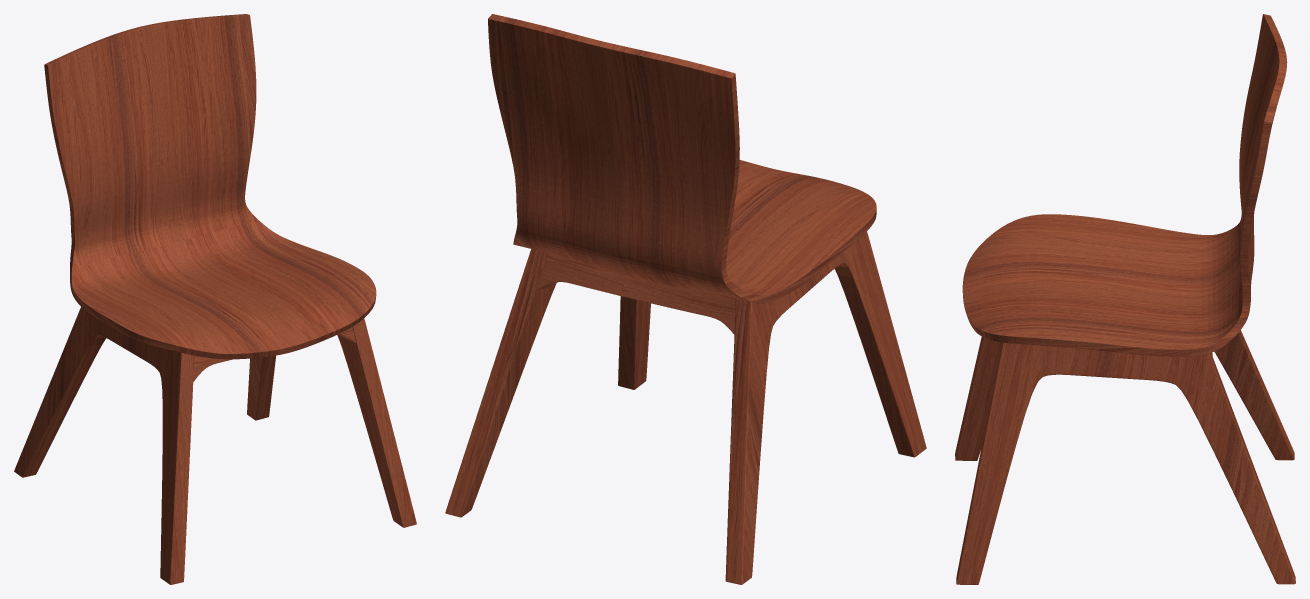
File: Chair.obj
3 renders of one model, left to right at view 1: azimuth 30°, elevation 25°; view 2: azimuth 150°, elevation 25°; view 3: azimuth 270°, elevation 25°, orthographic. The views are drawn at different scales.
Visible parts, largest first — view 1: Line061, Line065, Line062, Line064; view 2: Line061, Line065, Line062, Line063; view 3: Line061, Line062, Line065.
Part boxes in pixels (x1,y1,x2,y2): Line061: [44, 14, 376, 359]; Line065: [14, 307, 194, 584]; Line062: [247, 318, 416, 527]; Line064: [193, 327, 356, 381]; Line061: [488, 14, 876, 303]; Line065: [725, 231, 926, 584]; Line062: [445, 249, 650, 517]; Line063: [536, 253, 735, 334]; Line061: [962, 14, 1287, 356]; Line062: [956, 342, 1295, 584]; Line065: [955, 330, 1294, 460].
Bounding box in the file's own units: 5494 × 8864 × 5981.
